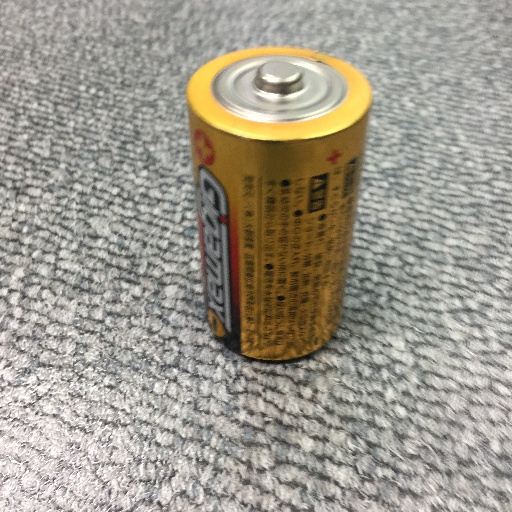Battery_0: (185, 31, 379, 369)
